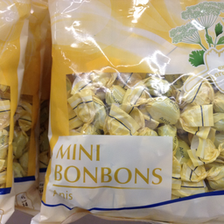candy: (51, 3, 221, 222)
